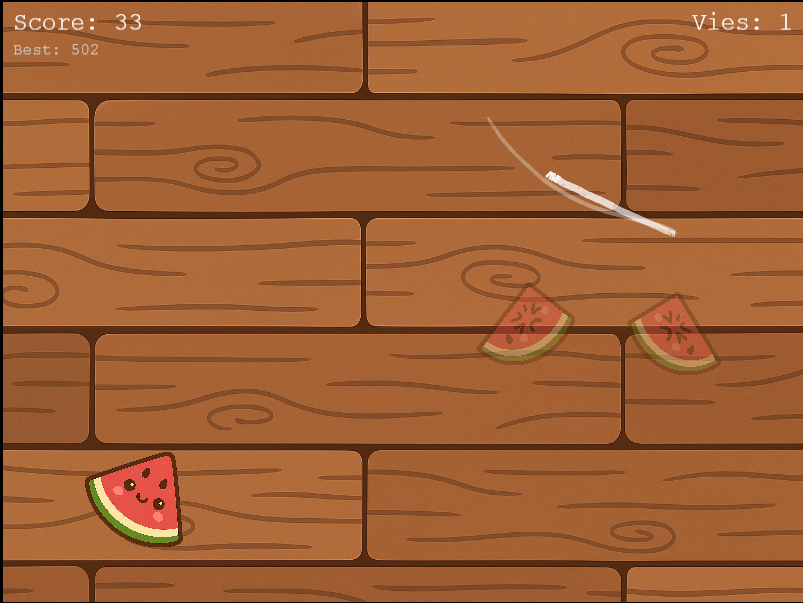fruit: (79, 447, 189, 557)
